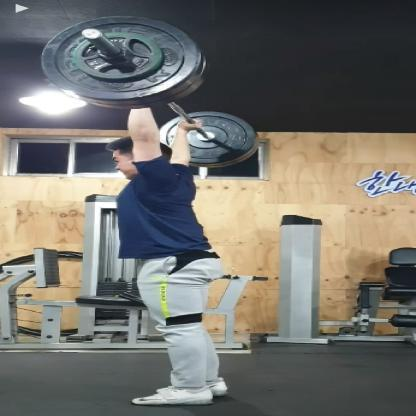Barbell: (78, 28, 107, 41)
